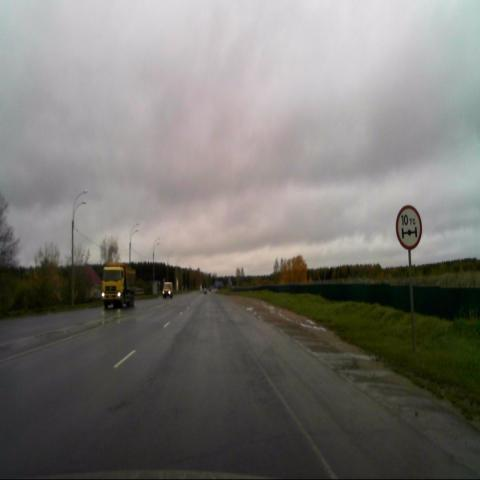3_12: (395, 204, 423, 249)
